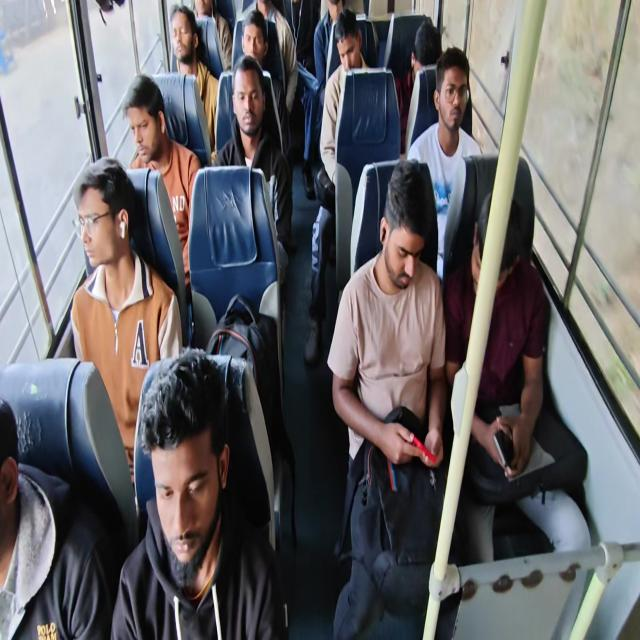person: (151, 325, 237, 640), (331, 170, 453, 333), (74, 138, 148, 334), (468, 170, 526, 308), (0, 332, 21, 639), (223, 65, 276, 174), (121, 71, 170, 168), (141, 11, 207, 81), (405, 29, 444, 111), (436, 87, 474, 170), (334, 27, 370, 98), (232, 12, 272, 72), (181, 0, 221, 49), (249, 0, 274, 37), (321, 0, 335, 30)
